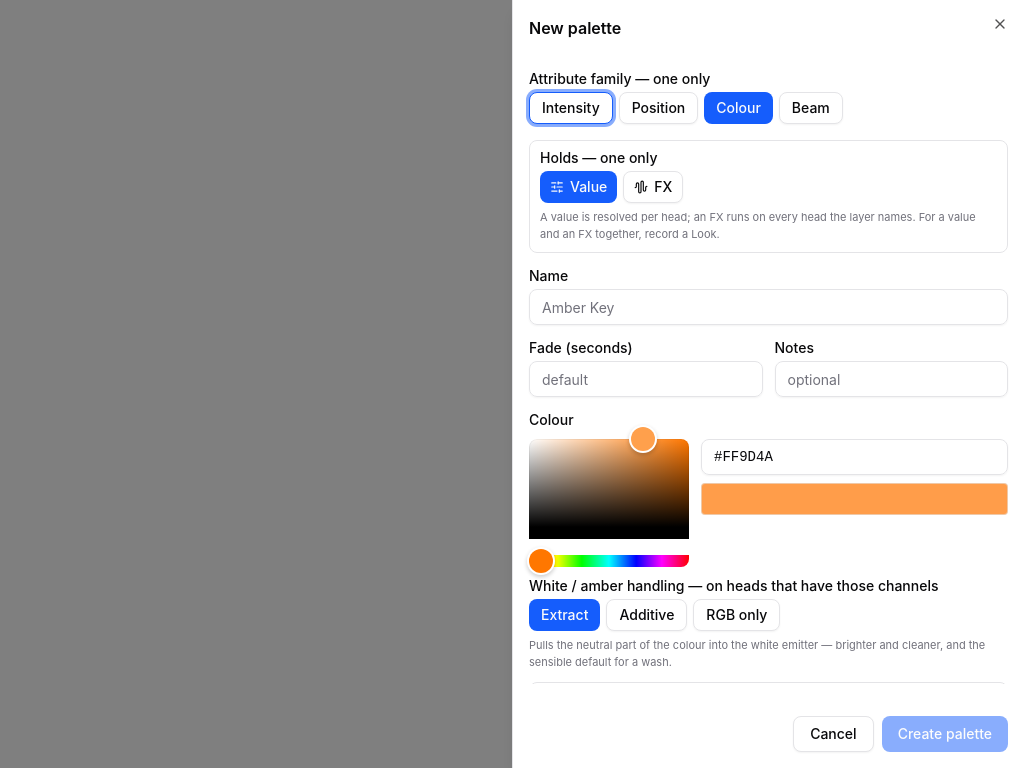
Test case: the Holds choice › offers Effect under Beam, with the beam built-ins
The image size is (1024, 768).
Click the button "Beam": (811, 108) [779,92,843,124]
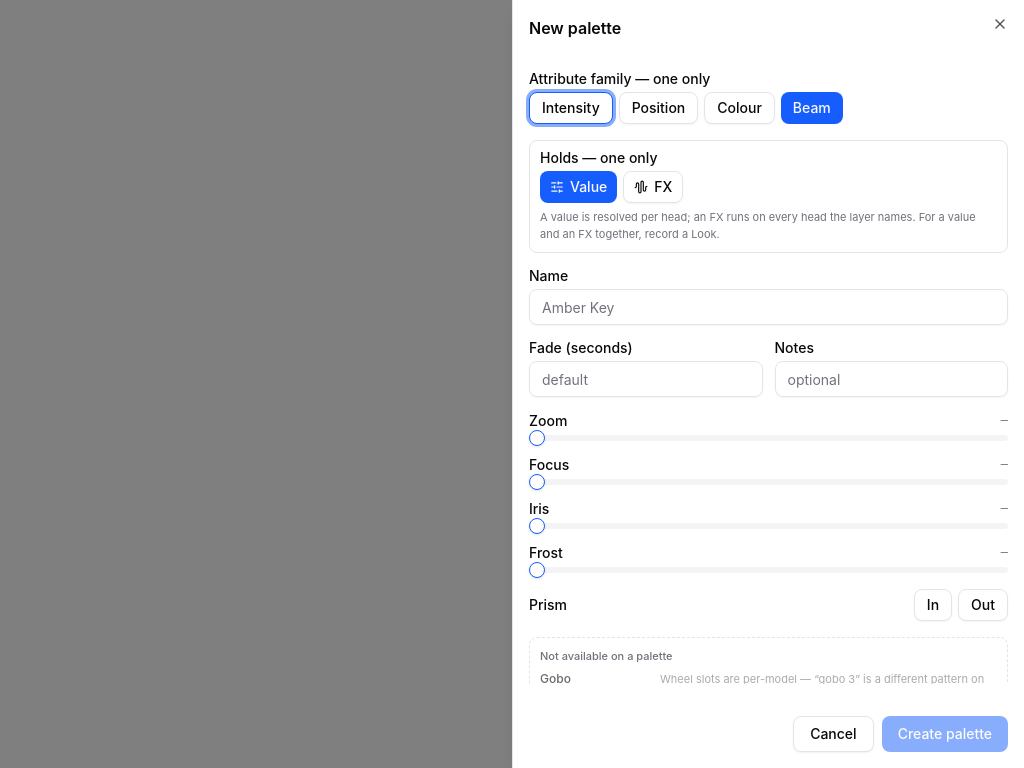
Click the button "FX": (653, 187) [623,171,683,203]
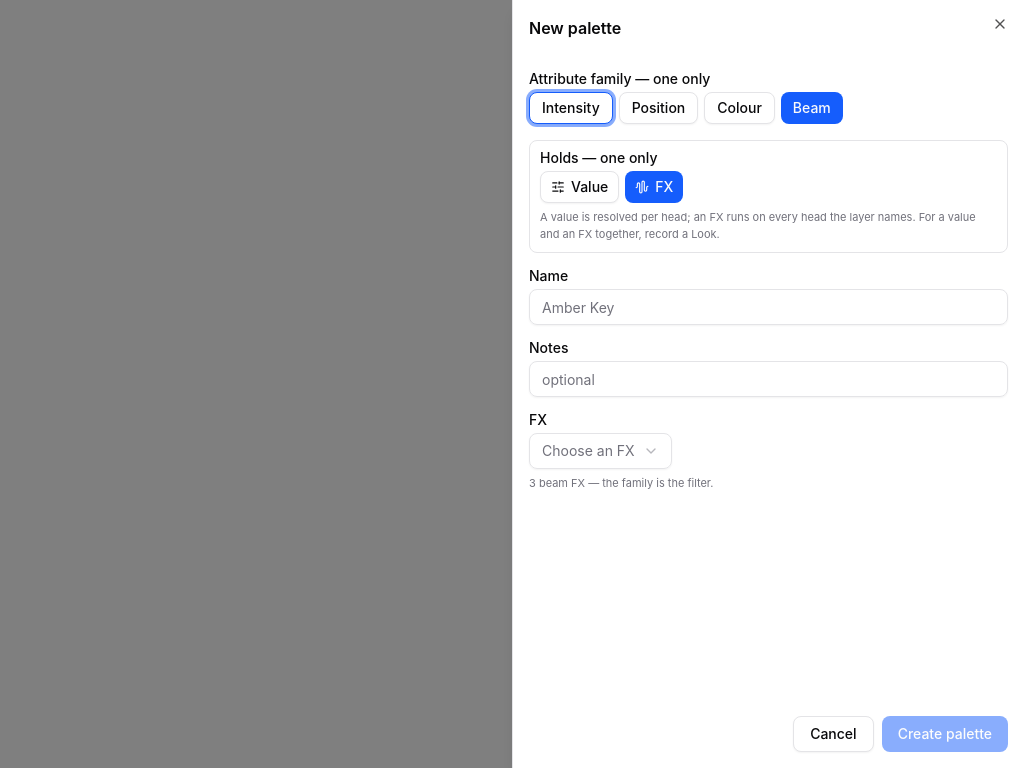
Click the dropdown: (600, 451) [529,433,672,469]
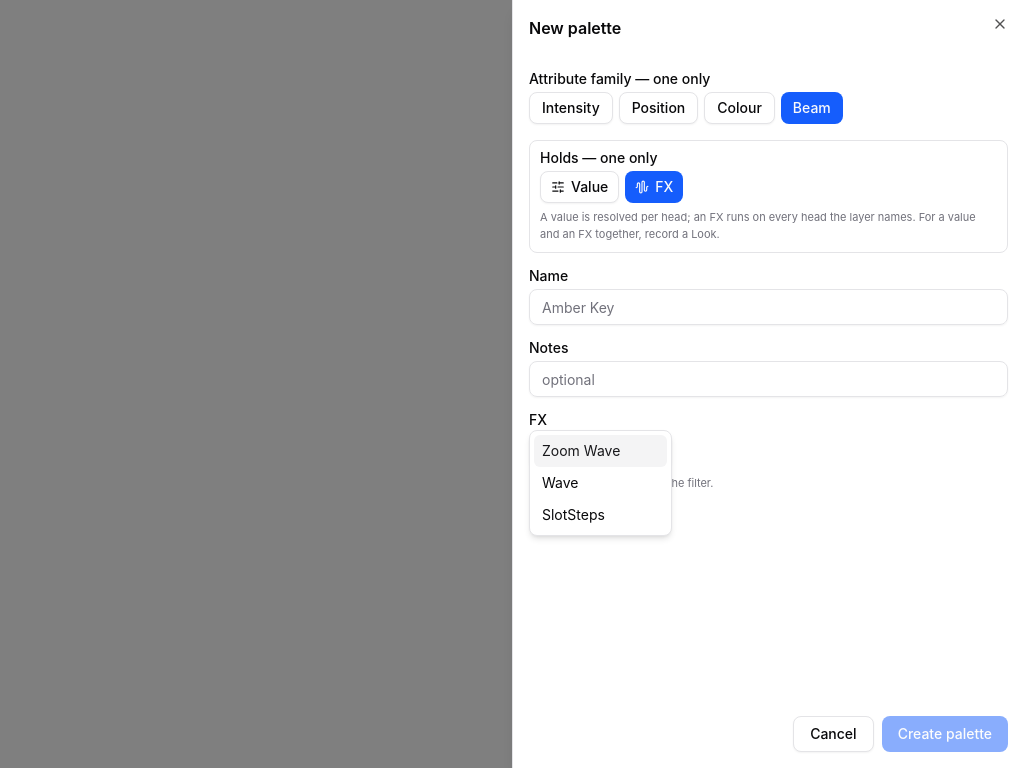
Check: the option "Zoom Wave" is shown, box [534,435,667,467]
